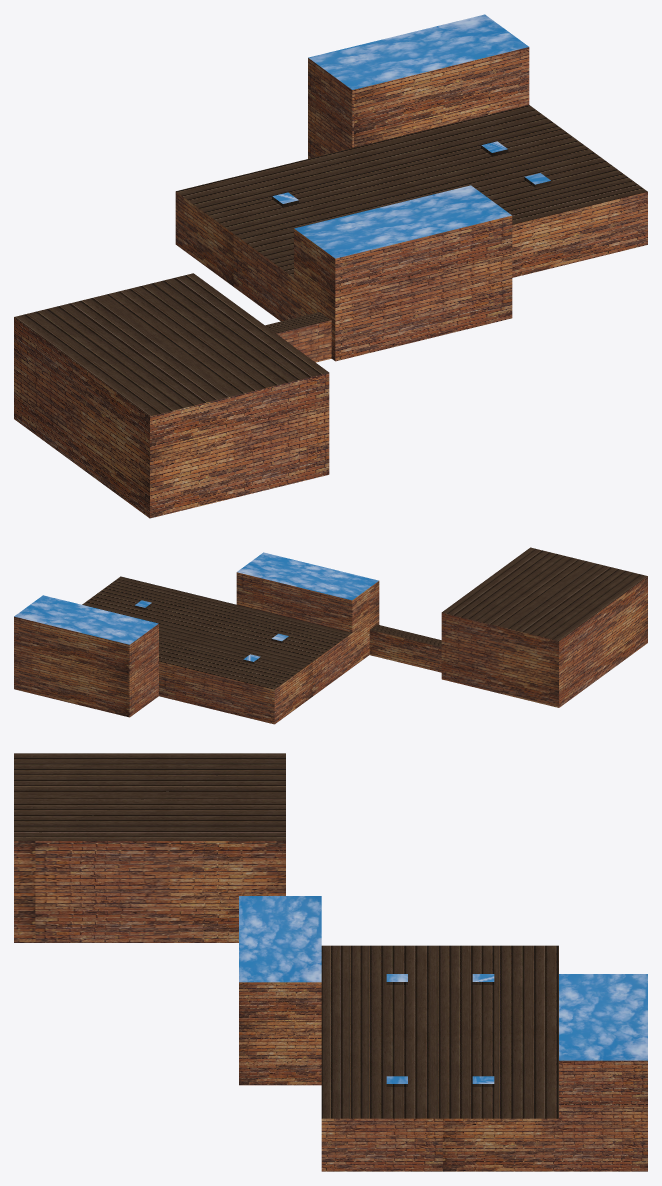
File: room3.obj
3 views of the same model, one above another, from view 1: azimuth 30°, elevation 25°; view 2: azimuth 150°, elevation 25°; view 3: azimuth 270°, elevation 25° (orthographic). The views are drawn at different scales.
Visible parts, largest first — view 1: Cube.001; view 2: Cube.001; view 3: Cube.001.
Part boxes in pixels (left/top/right/bottom): Cube.001: left=14, top=14, right=647, bottom=518; Cube.001: left=14, top=547, right=647, bottom=724; Cube.001: left=14, top=753, right=647, bottom=1171.
Size of the model in its own units: 1.84 by 0.3055 by 1.55.
